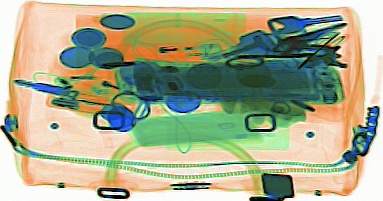lighter: (61, 68, 146, 104), (123, 40, 223, 60)
